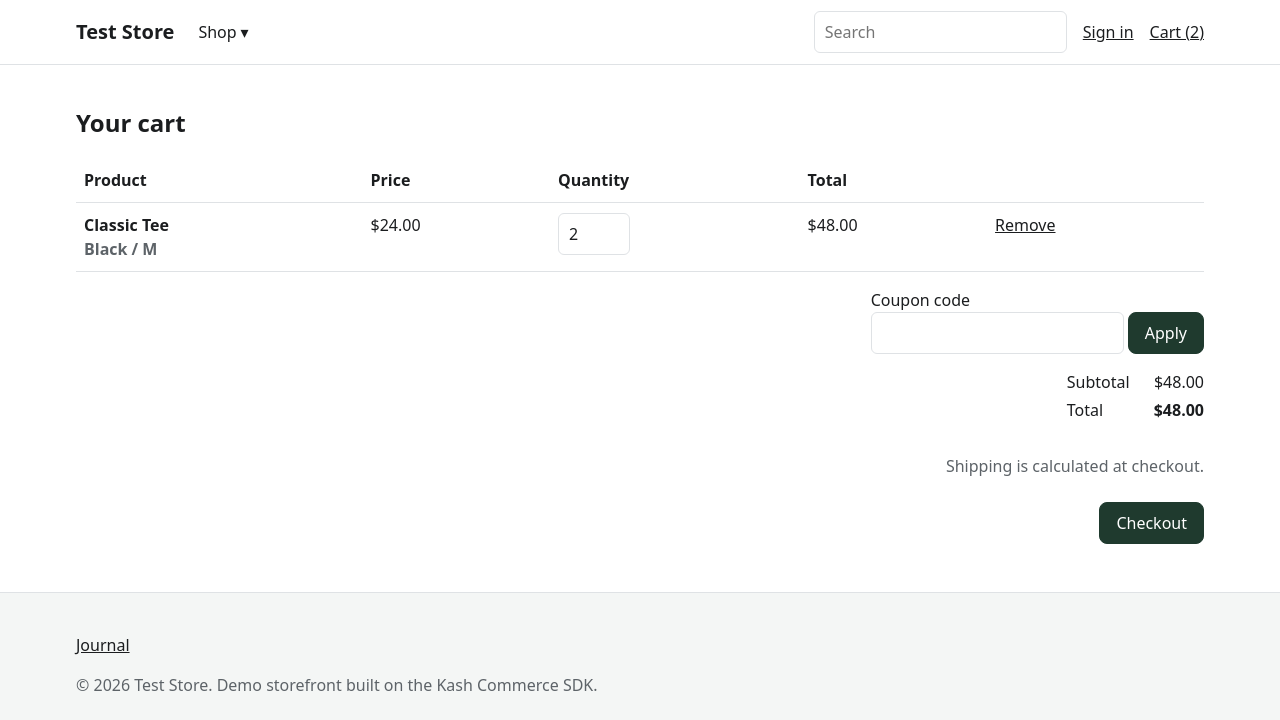
Cart › updates quantity, removes lines and applies a coupon
The width and height of the screenshot is (1280, 720).
Replace the text in the number field named "Quantity for Classic Tee" with "3": (594,234) [558, 213, 630, 255]
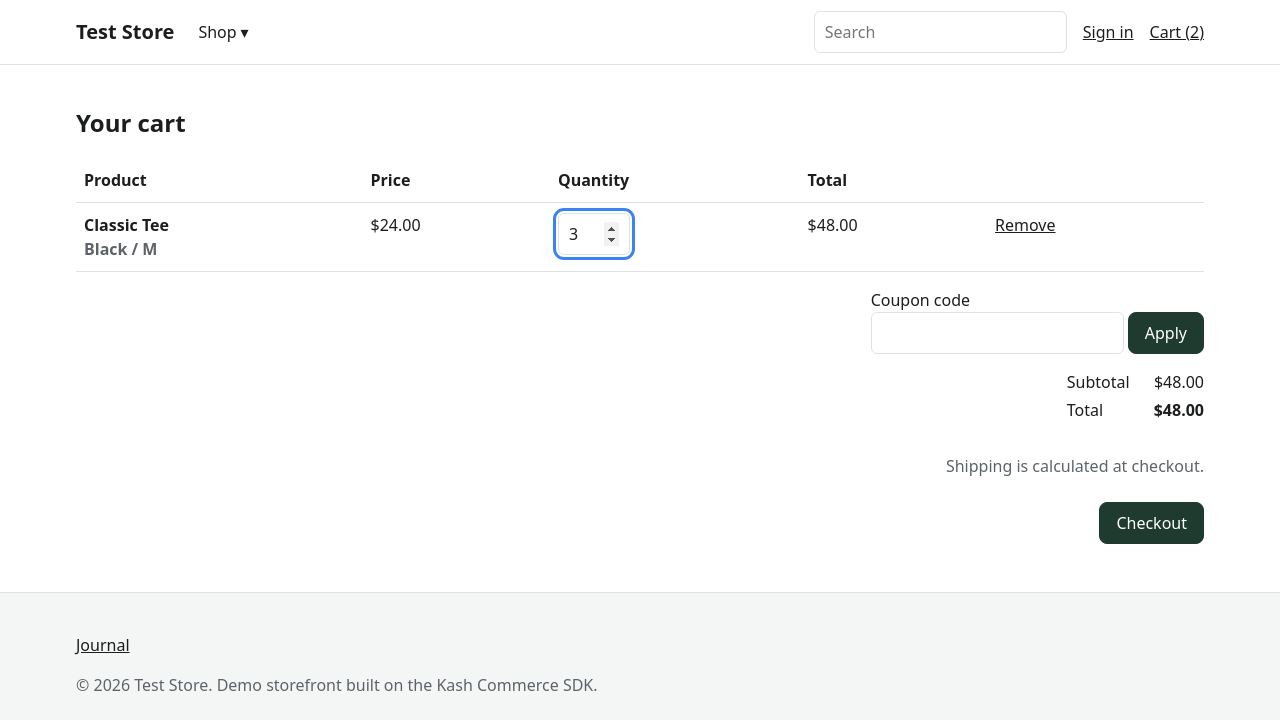
Press Tab
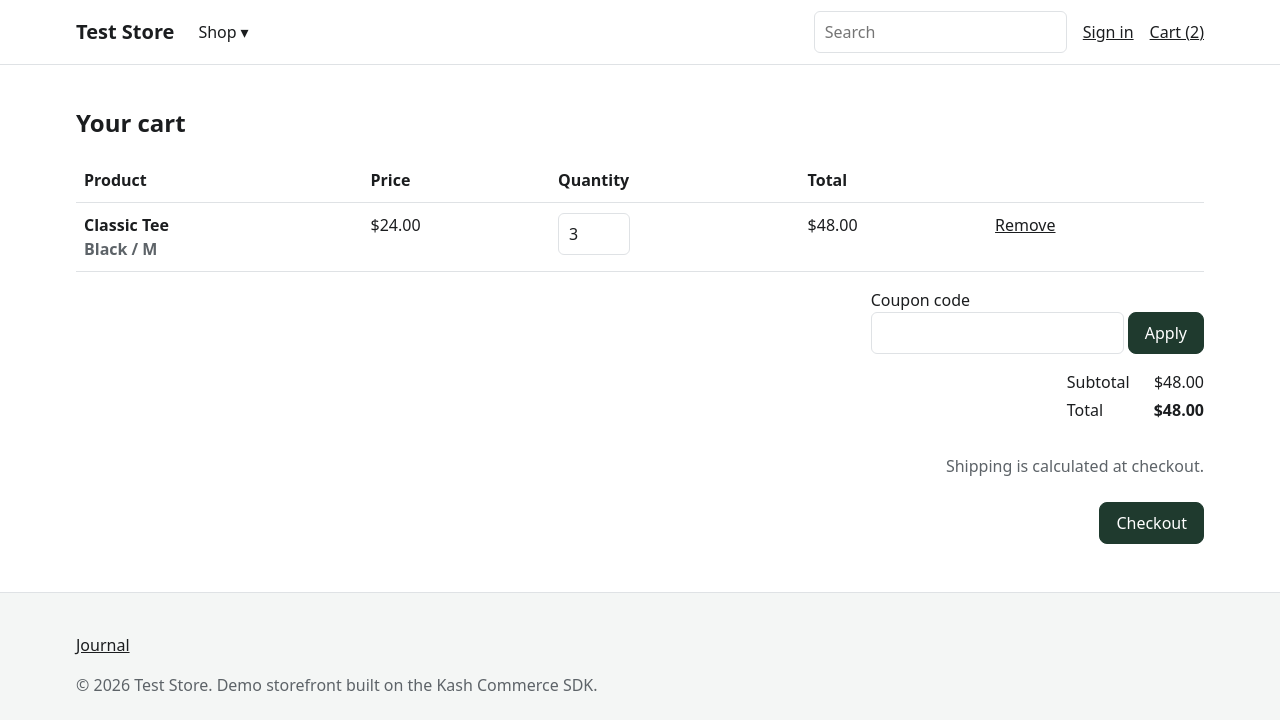
In the field labelled "Coupon code": (997,333) [871, 312, 1124, 354], type "SAVE10"
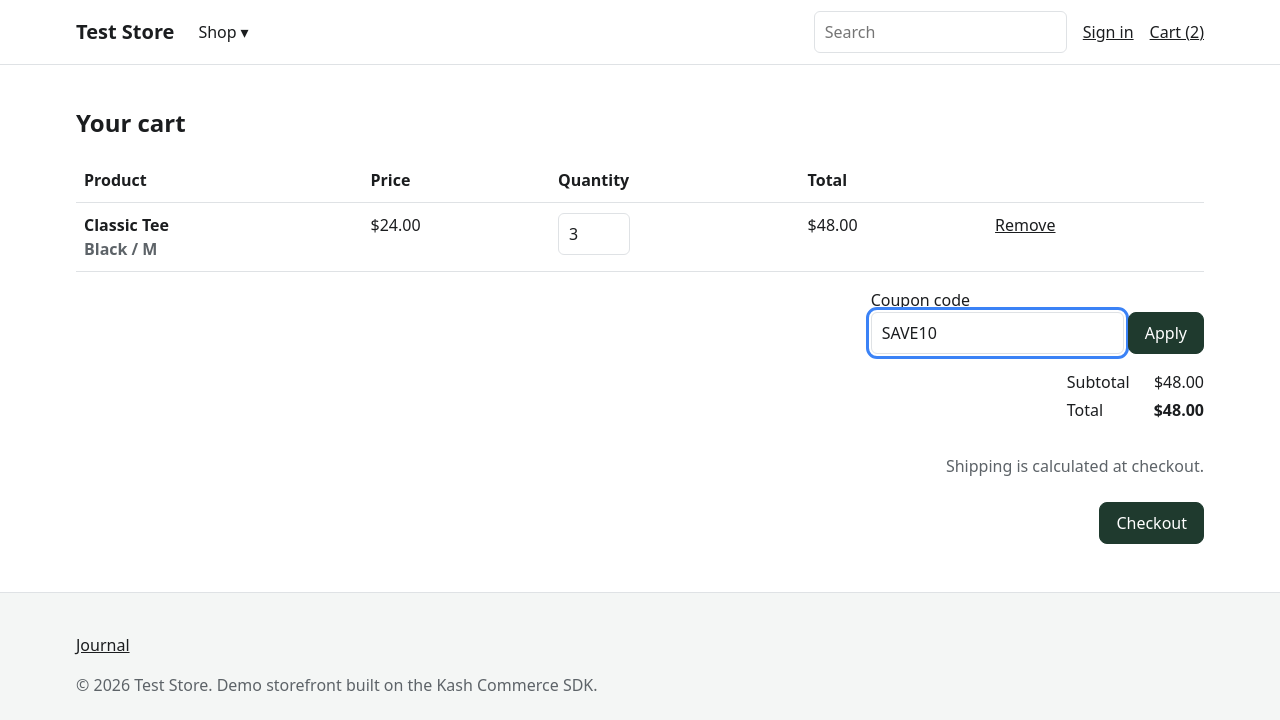
Click the button "Apply": (1166,333) [1128, 312, 1204, 354]
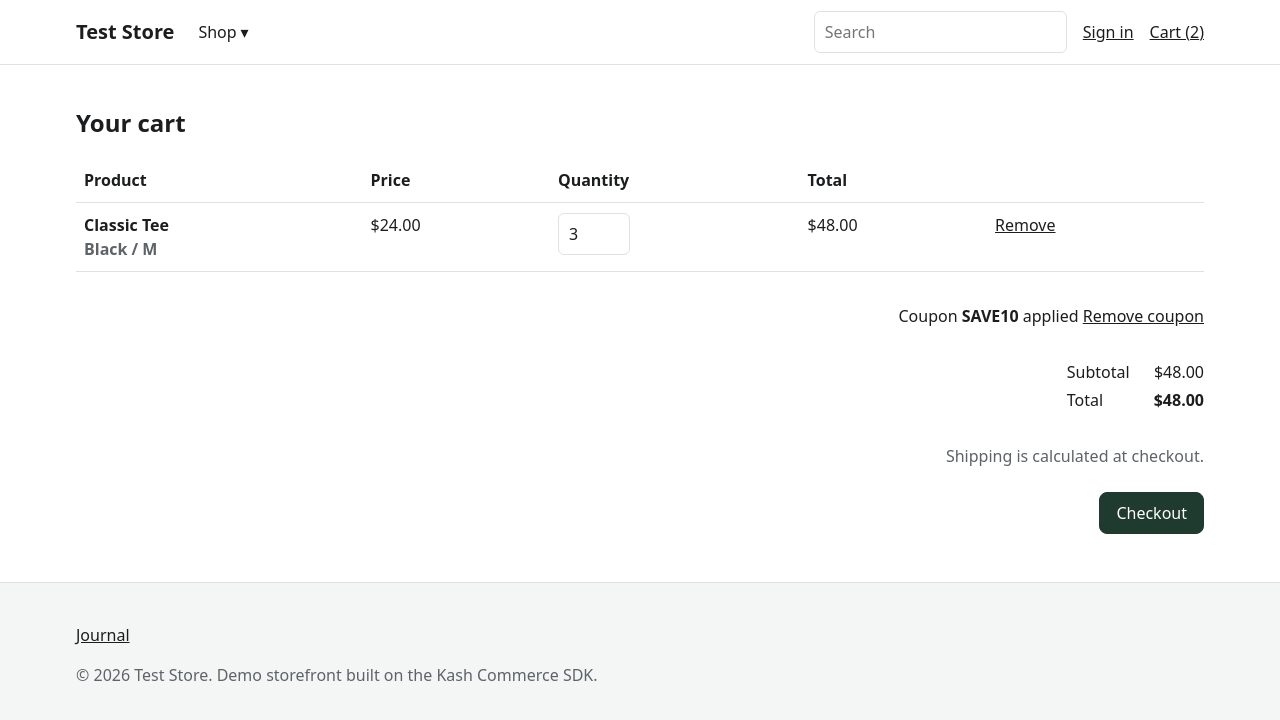
Expected: the text "SAVE10" is shown, [962, 305, 1019, 327]
Click the button named "Remove Classic Tee": (1025,225) [995, 213, 1056, 237]
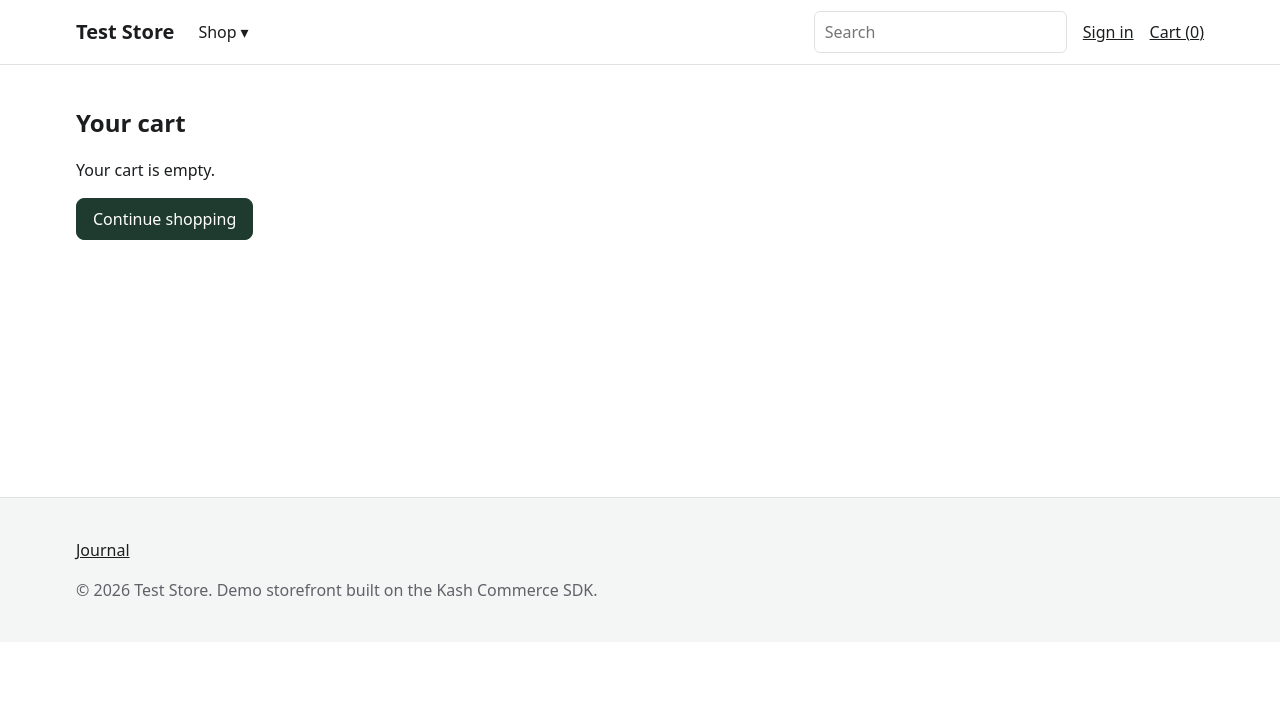
Expected: the text "Your cart is empty." is shown, [76, 159, 215, 181]
